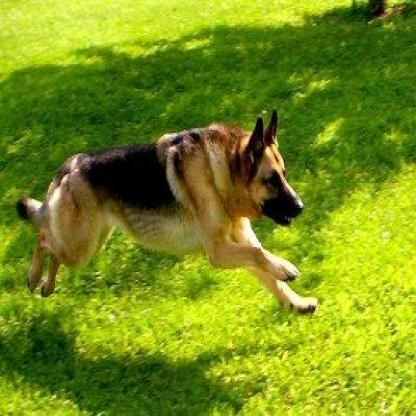german shepherd: (15, 113, 322, 318)
